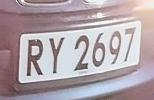2: (72, 31, 91, 76)
6: (91, 28, 108, 71)
7: (122, 22, 137, 66)
9: (108, 26, 124, 69)
R: (23, 35, 47, 82)
Y: (45, 33, 67, 78)
